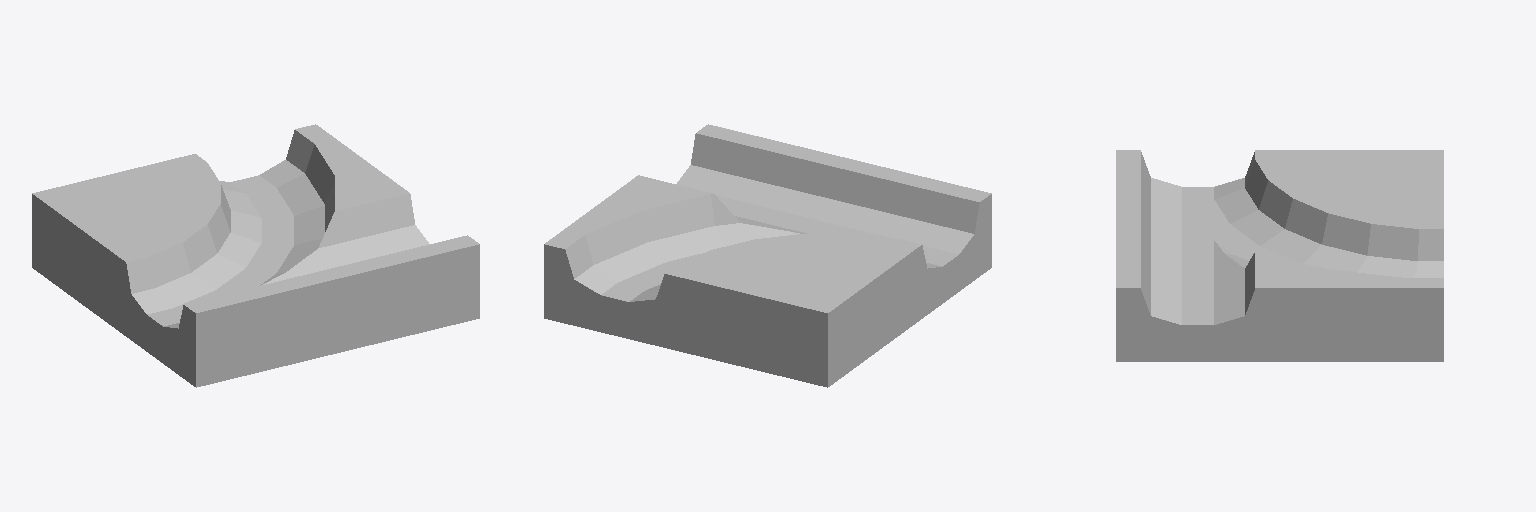
Rendered from split-solid-left.obj.
The picture shows the model from 3 angles: view 1: azimuth 30°, elevation 25°; view 2: azimuth 150°, elevation 25°; view 3: azimuth 270°, elevation 25°; orthographic projection.
Visible parts, largest first — view 1: split-solid-left; view 2: split-solid-left; view 3: split-solid-left.
Boxes of the visible parts, box(x1,y1,x2,y2) form: split-solid-left: box(32, 124, 479, 387); split-solid-left: box(544, 124, 991, 387); split-solid-left: box(1116, 150, 1443, 361).
Bounding box in the file's own units: 2 × 0.5 × 2.